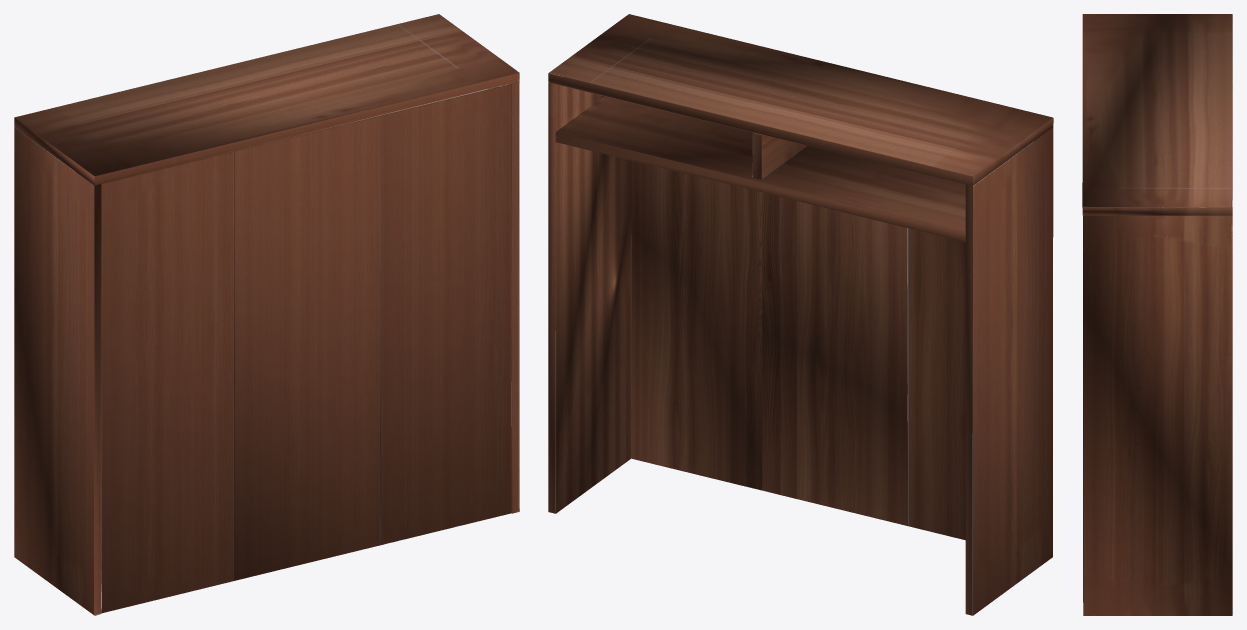
The model's file is mall-clothing-wall-unit.glb.
The picture shows the model from 3 angles, left to right: view 1: azimuth 30°, elevation 25°; view 2: azimuth 150°, elevation 25°; view 3: azimuth 270°, elevation 25°; orthographic projection. The views are drawn at different scales.
Visible parts, largest first — view 1: clothing-wall-unit; view 2: clothing-wall-unit; view 3: clothing-wall-unit.
Part boxes in pixels (<box>): clothing-wall-unit: <box>14,14,519,615</box>; clothing-wall-unit: <box>548,14,1053,615</box>; clothing-wall-unit: <box>1082,14,1232,615</box>.
Bounding box in the file's own units: 2.4 × 2.37 × 0.7885.
Materials: 1 (1 with a texture image).
